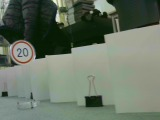speed_20: (8, 39, 36, 64)
